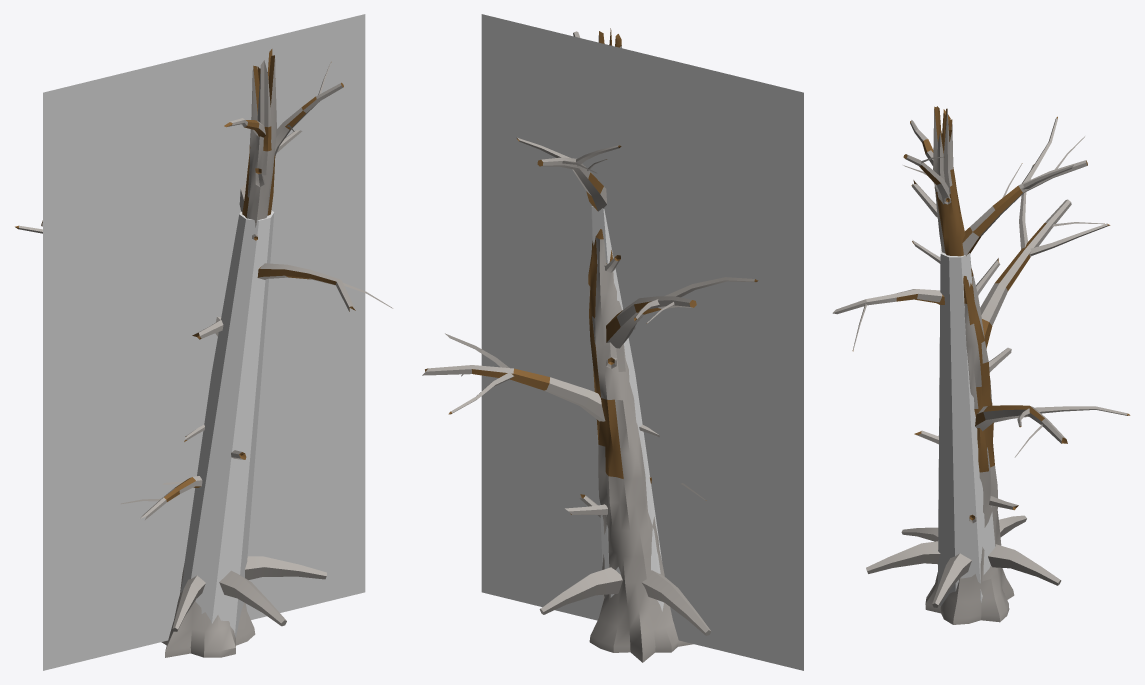
Rendered from DeadTree.fbx.
3 renders of one model, left to right at view 1: azimuth 30°, elevation 25°; view 2: azimuth 150°, elevation 25°; view 3: azimuth 270°, elevation 25°, orthographic. The views are drawn at different scales.
Visible parts, largest first — view 1: DeadTree_Billboard, COL_DeadTree, DeadTree_Trunk; view 2: DeadTree_Billboard, DeadTree_Trunk, COL_DeadTree; view 3: DeadTree_Trunk, COL_DeadTree.
Boxes of the visible parts, x1=… form: DeadTree_Billboard: x1=43, y1=14, x2=365, y2=670; COL_DeadTree: x1=180, y1=210, x2=274, y2=637; DeadTree_Trunk: x1=15, y1=49, x2=392, y2=657; DeadTree_Billboard: x1=481, y1=14, x2=803, y2=670; DeadTree_Trunk: x1=422, y1=28, x2=758, y2=662; COL_DeadTree: x1=591, y1=206, x2=663, y2=611; DeadTree_Trunk: x1=832, y1=106, x2=1130, y2=624; COL_DeadTree: x1=938, y1=248, x2=995, y2=605.
Size of what is drawn, in the model's own units: 4.19 by 7.08 by 3.67.
